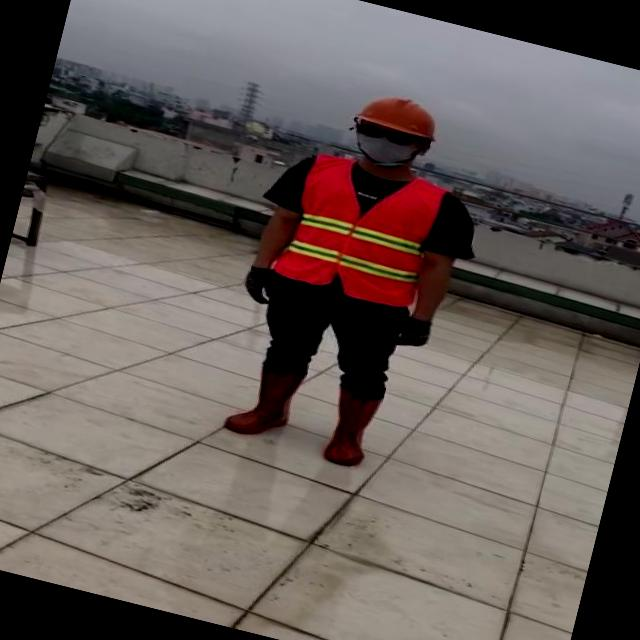boots: (221, 358, 308, 446), (316, 384, 386, 469)
gloves: (381, 296, 449, 368), (230, 253, 290, 324)
helmet: (350, 83, 448, 145)
vest: (273, 146, 447, 310)
